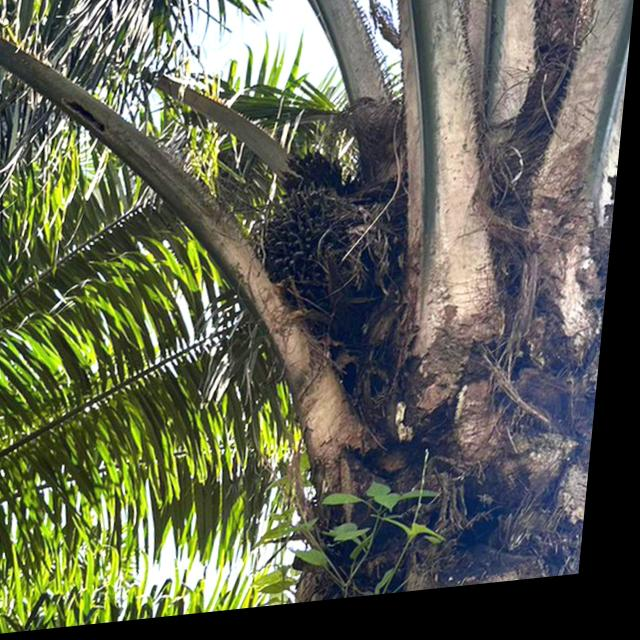ripe: (252, 187, 382, 329)
